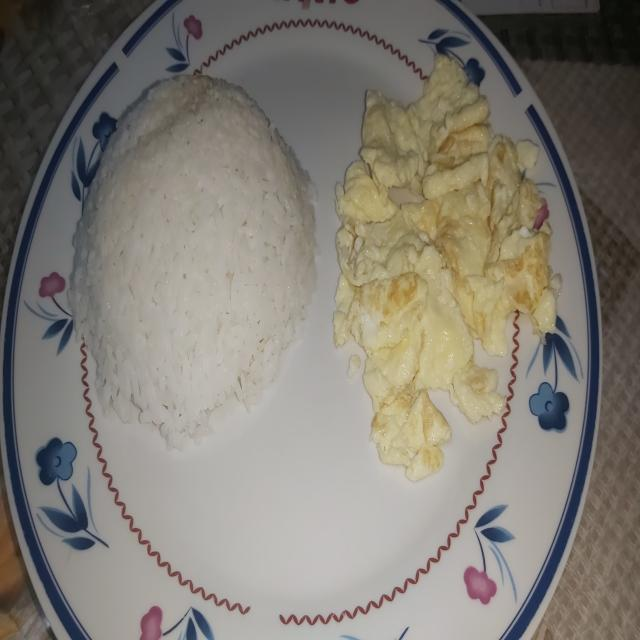Chicken -Chicken Inasal-: (71, 68, 312, 420)
